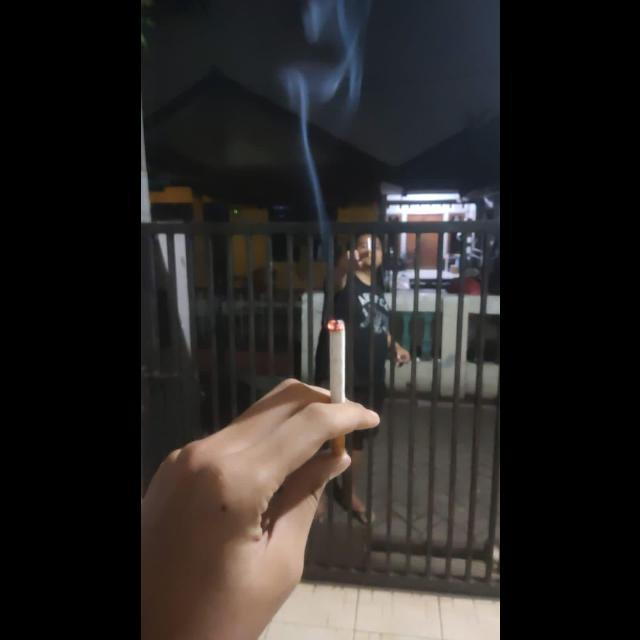rokok: (321, 314, 353, 458)
